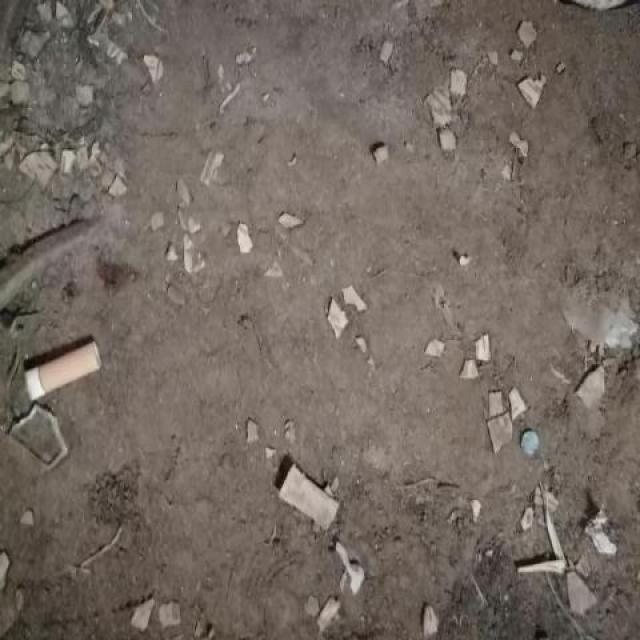non-organic waste: (19, 333, 109, 410), (277, 459, 344, 541)
